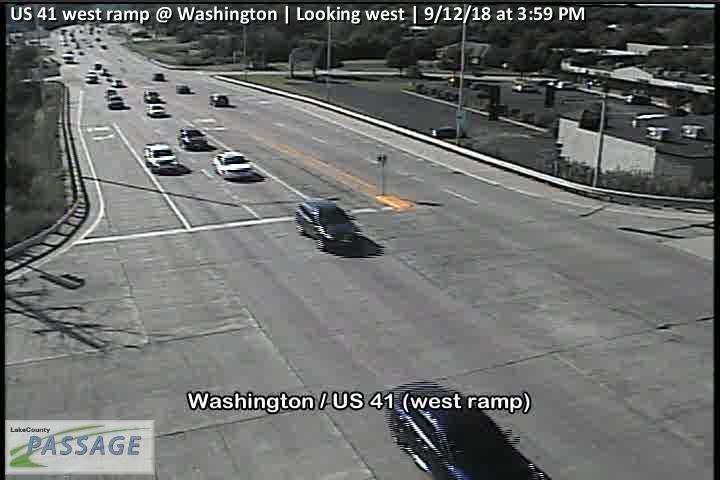SUV: (381, 379, 551, 480), (292, 199, 363, 252), (143, 142, 180, 173), (177, 128, 209, 151), (444, 74, 474, 90), (106, 93, 128, 110), (208, 92, 230, 108), (147, 103, 167, 117), (151, 71, 167, 83)
Sedan: (213, 150, 255, 181), (431, 124, 468, 141), (510, 80, 541, 94), (144, 90, 162, 103), (175, 83, 191, 94)
